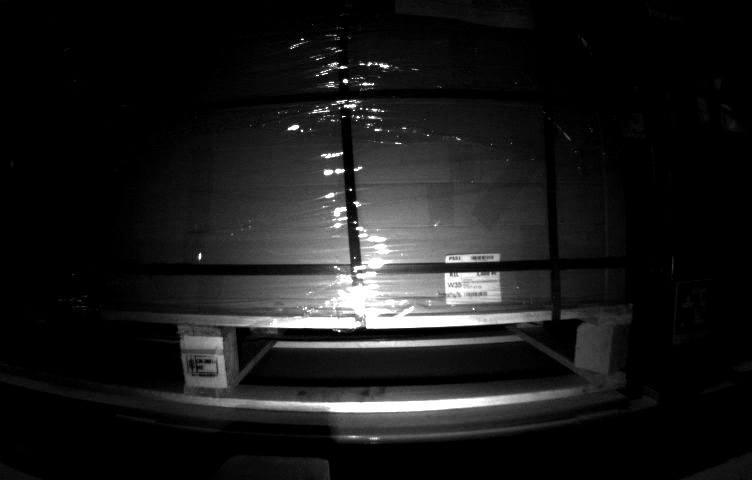True Barcode: (442, 255, 501, 304)
